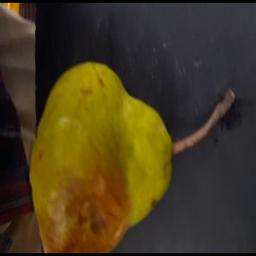Pear Rotten: (14, 45, 185, 256)
